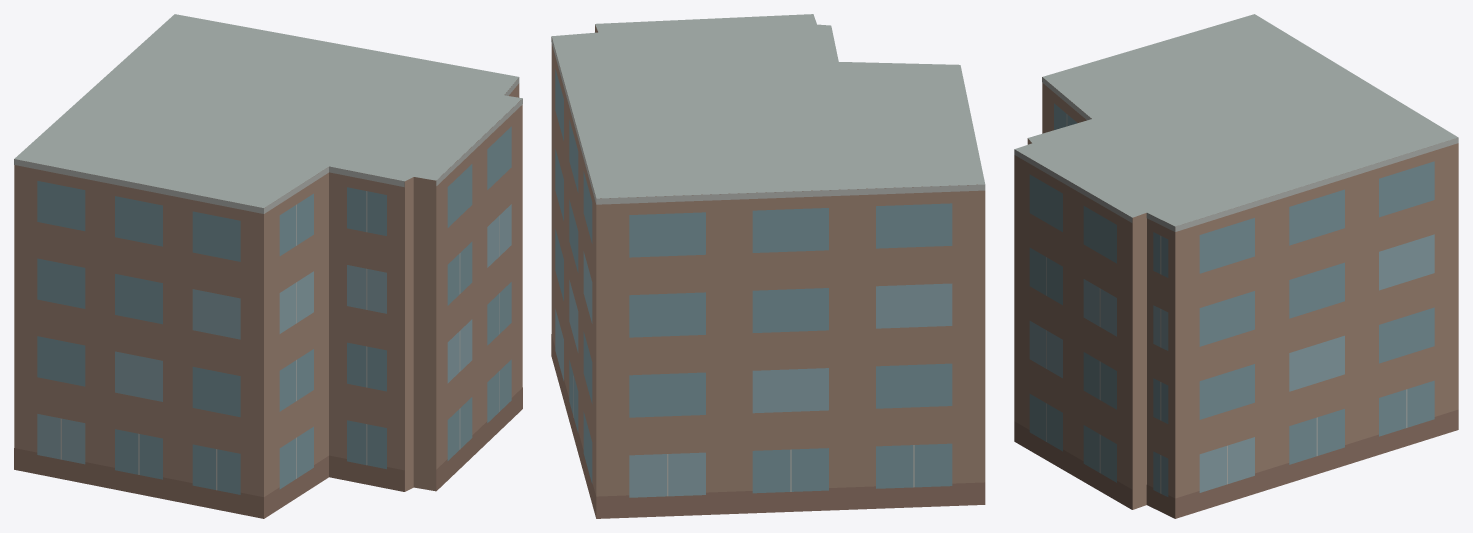
File: survey-upis-32811985.glb
3 renders of one model, left to right at view 1: azimuth 30°, elevation 25°; view 2: azimuth 150°, elevation 25°; view 3: azimuth 270°, elevation 25°, orthographic. The views are drawn at different scales.
Parts seen in each view (by area): view 1: survey-upis-32811985.tmp; view 2: survey-upis-32811985.tmp; view 3: survey-upis-32811985.tmp.
Part boxes in pixels (x1,y1,x2,y2): survey-upis-32811985.tmp: [14, 14, 522, 518]; survey-upis-32811985.tmp: [551, 14, 985, 518]; survey-upis-32811985.tmp: [1014, 14, 1458, 518].
Size of the model in its own units: 19.97 by 12.8 by 17.64.
